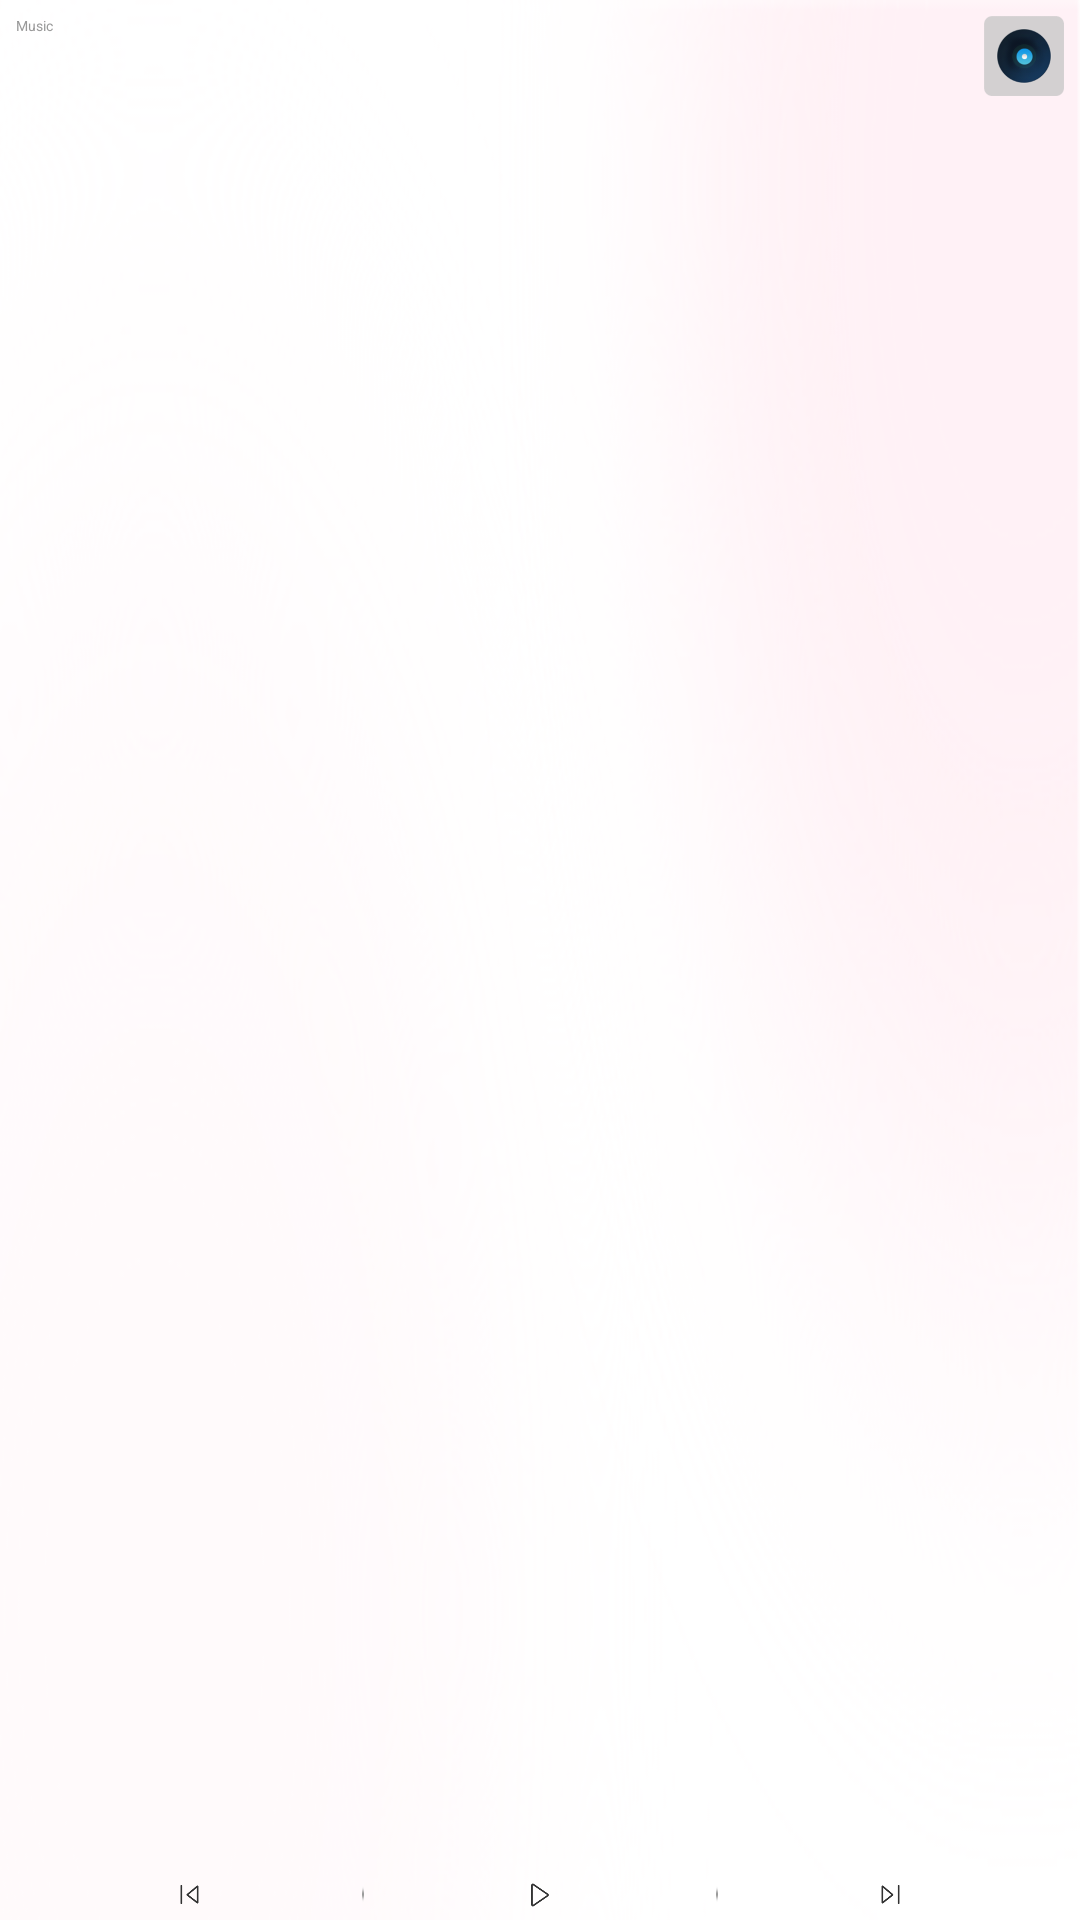

Icon bounding boxes for this 1080x1920 phone screenshot, format region(x1, y1, x2, y2):
music: region(984, 16, 1064, 96)
play: region(531, 1883, 549, 1907)
